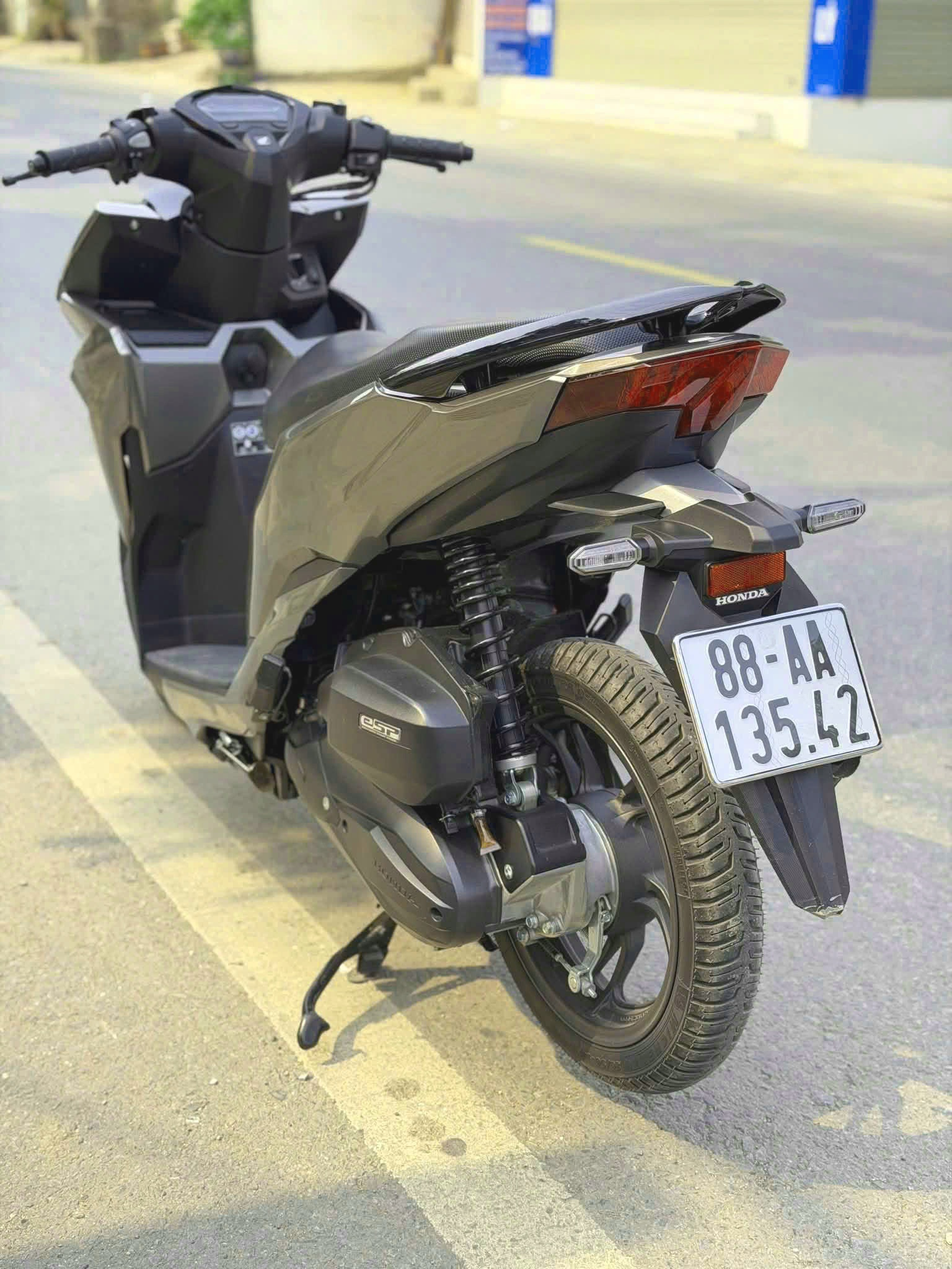Bien-so: (680, 603, 892, 786)
